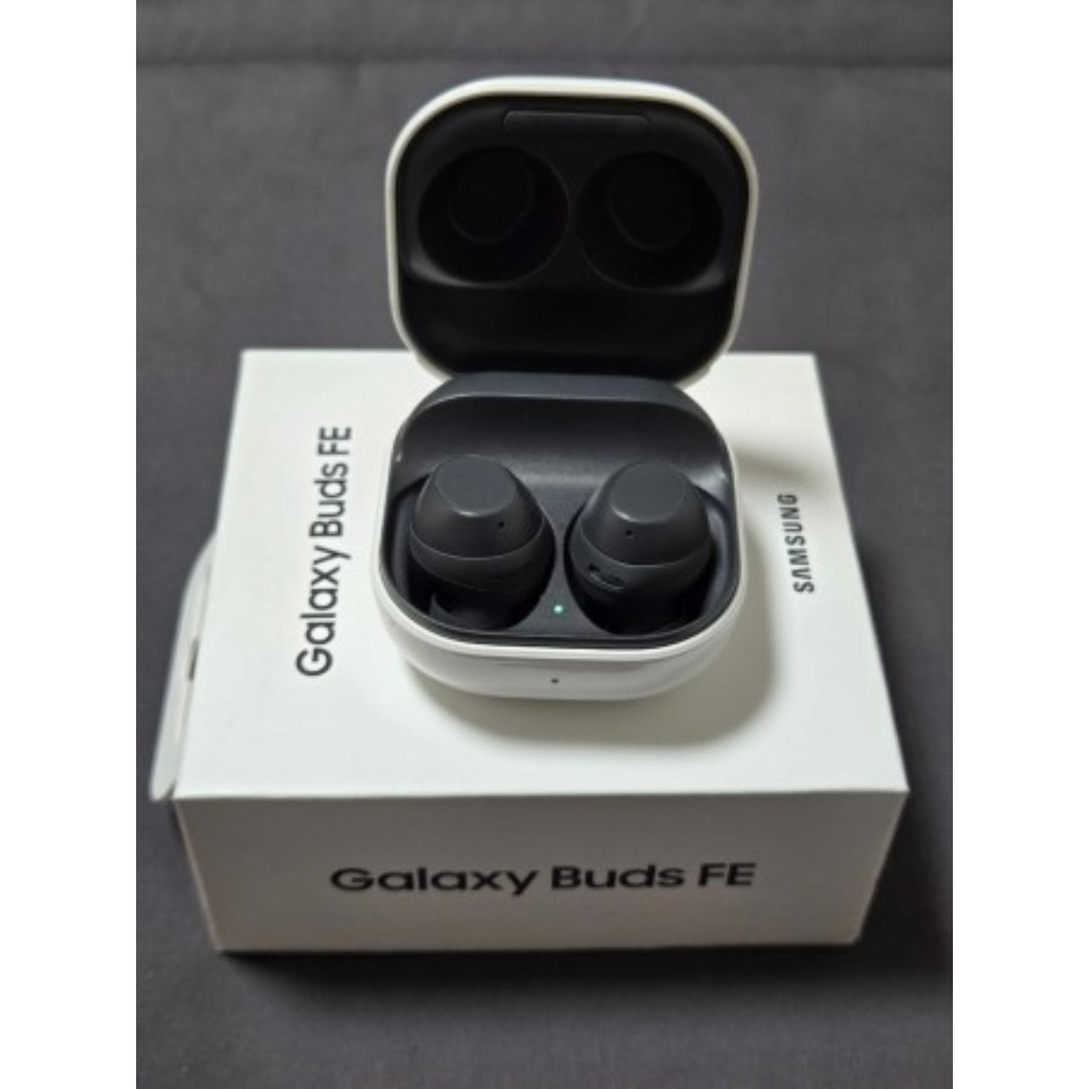Buds: (371, 73, 764, 715)
Buds_Units: (397, 447, 561, 637), (559, 453, 727, 636)
